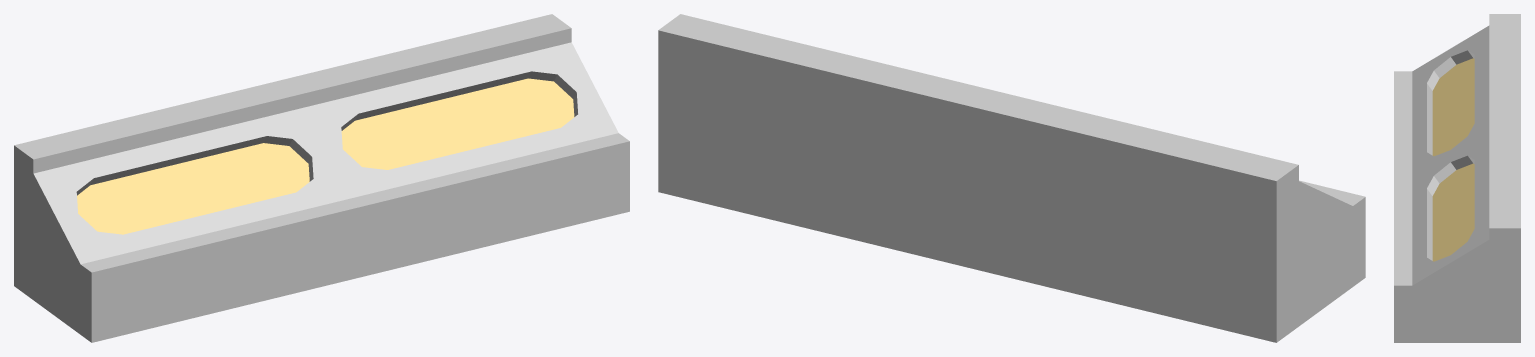
Rendered from SciFi_Tile_White_Edging_Lights_01.fbx.
3 views of the same model, side by side, from view 1: azimuth 30°, elevation 25°; view 2: azimuth 150°, elevation 25°; view 3: azimuth 270°, elevation 25° (orthographic). The views are drawn at different scales.
Parts seen in each view (by area): view 1: Model; view 2: Model; view 3: Model.
Part boxes in pixels (x1,y1,x2,y2): Model: (14, 14, 629, 342); Model: (658, 14, 1365, 342); Model: (1394, 14, 1520, 342).
Size of the model in its own units: 1000 by 250 by 250.
